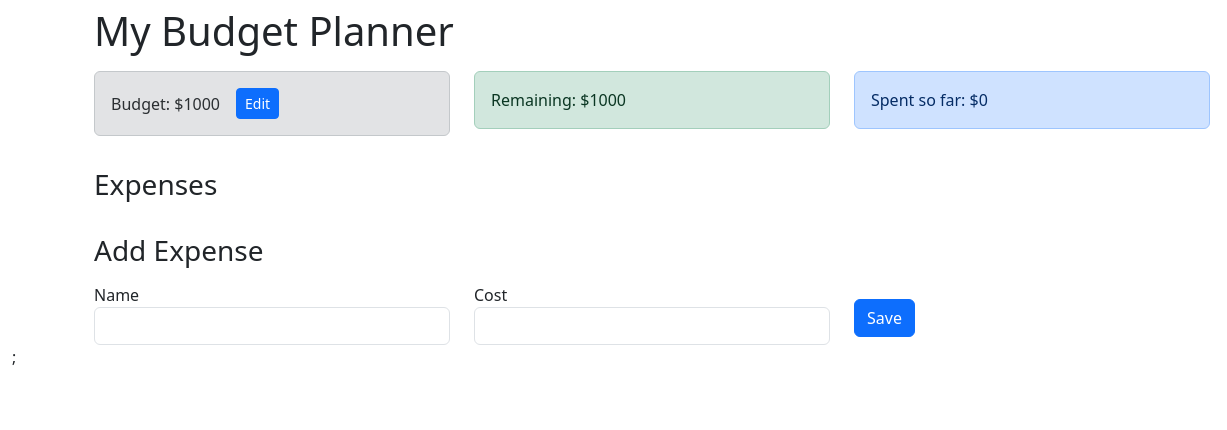
create an expense › create an expense
Type "Test expense 1" into the field labelled "Name" at (272, 326), box [94,307,450,345]
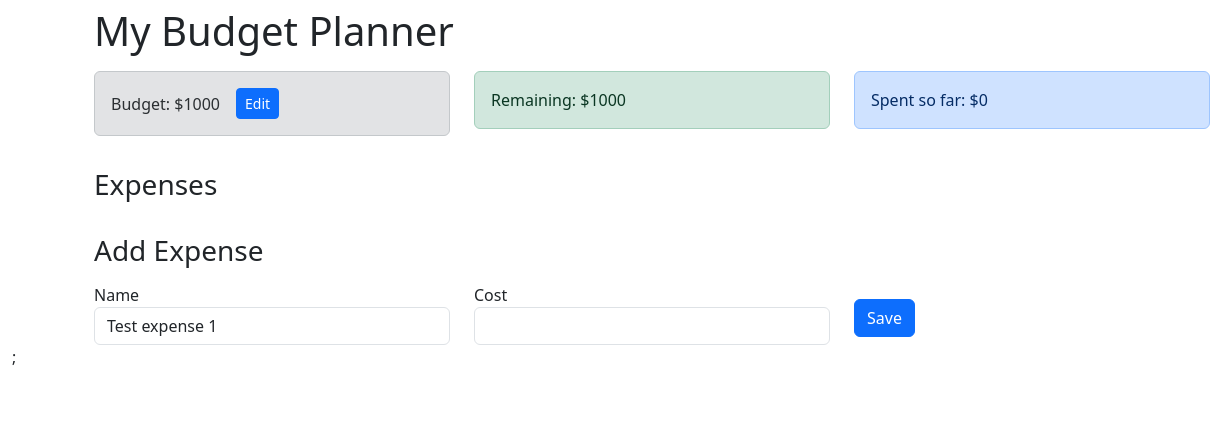
Type "9" into the field labelled "Cost" at (652, 326), box [474,307,830,345]
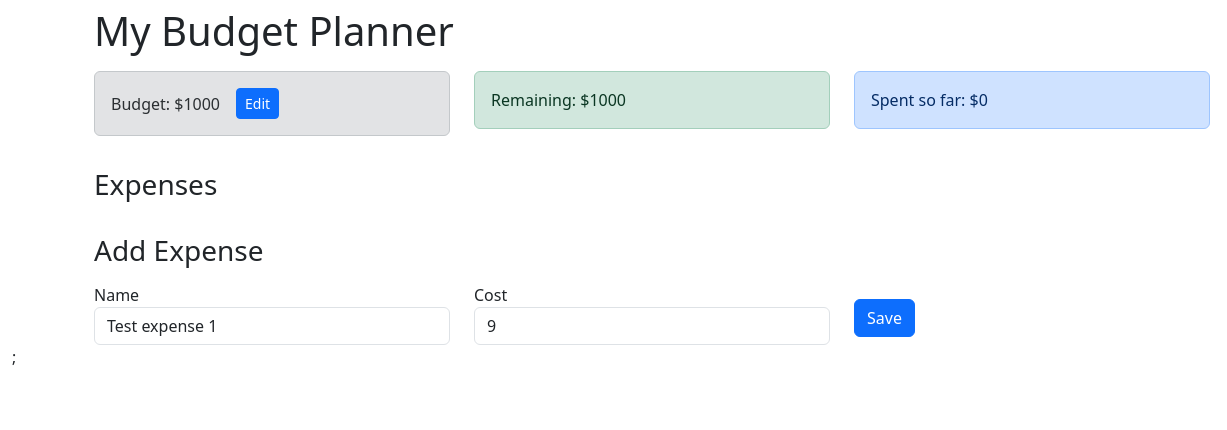
Click the button "Save" at (884, 318), box [854,299,915,337]
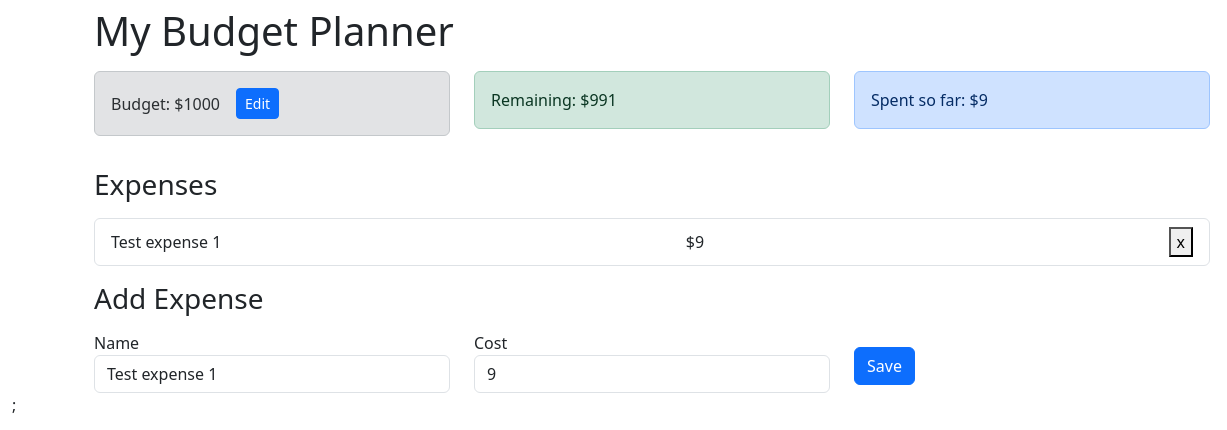
Expected: the text "Test expense 1" is shown, [111,230,221,254]
Expected: the text "$9" is shown, [686,230,704,254]
Expected: the text "Spent so far: $9" is shown, [871,89,988,111]
